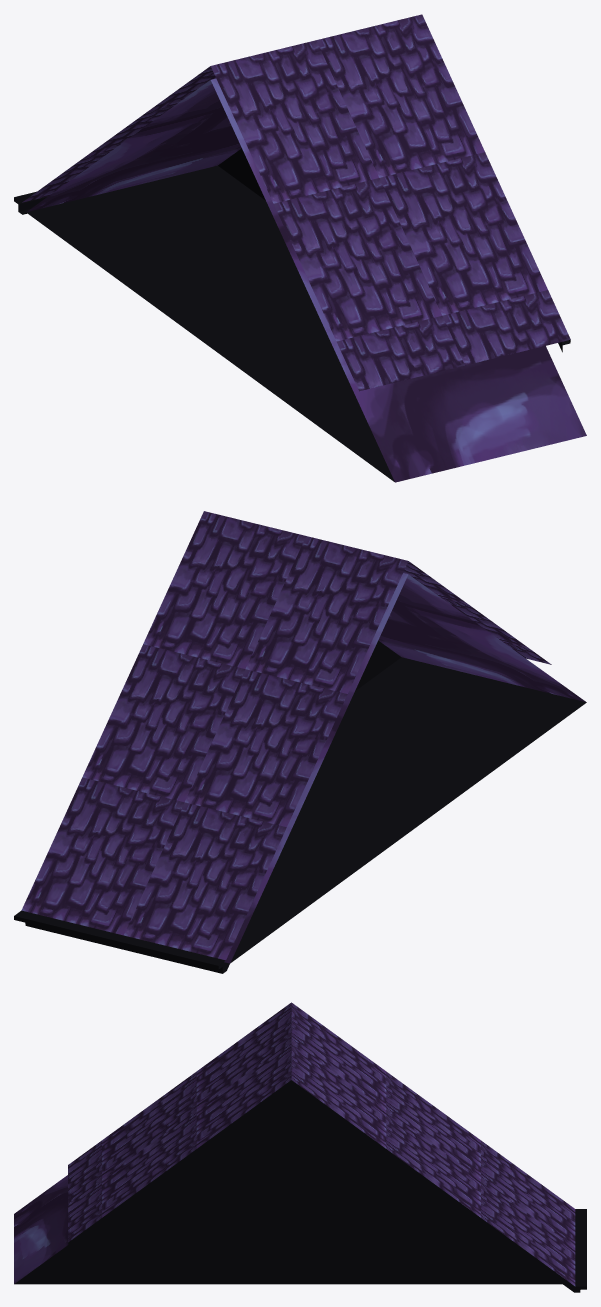
Rendered from RoofTextured.fbx.
The picture shows the model from 3 angles, top to bottom: view 1: azimuth 30°, elevation 25°; view 2: azimuth 150°, elevation 25°; view 3: azimuth 270°, elevation 25°; orthographic projection. The views are drawn at different scales.
Visible parts, largest first — view 1: Cube.225; view 2: Cube.225; view 3: Cube.225.
Boxes of the visible parts, box(x1,y1,x2,y2) form: Cube.225: box(14, 14, 586, 482); Cube.225: box(14, 511, 586, 973); Cube.225: box(14, 1002, 586, 1292).
Size of the model in its own units: 331 by 428 by 1032.
